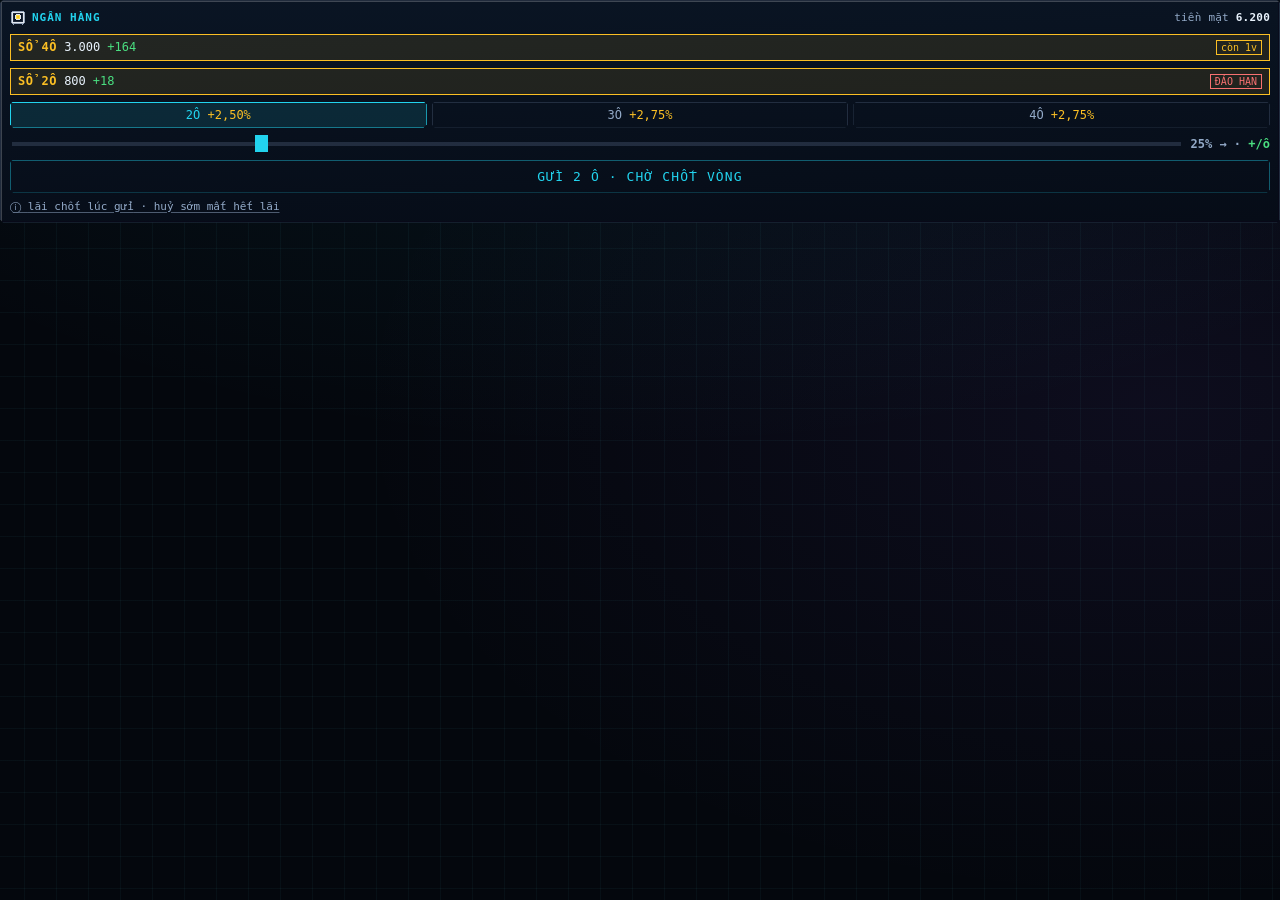
I-b. TIẾT LỘ KHI TƯƠNG TÁC (founder 09/09 — gọn trong một khung hình) › ⭐ bấm dòng sổ ⇒ hiện lãi suất hợp đồng + nút HUỶ SỚM
Click the button "SỔ 4Ô 3.000 +164 còn 1v". click: {"x": 82, "y": 47}
box: [11, 34, 1269, 60]
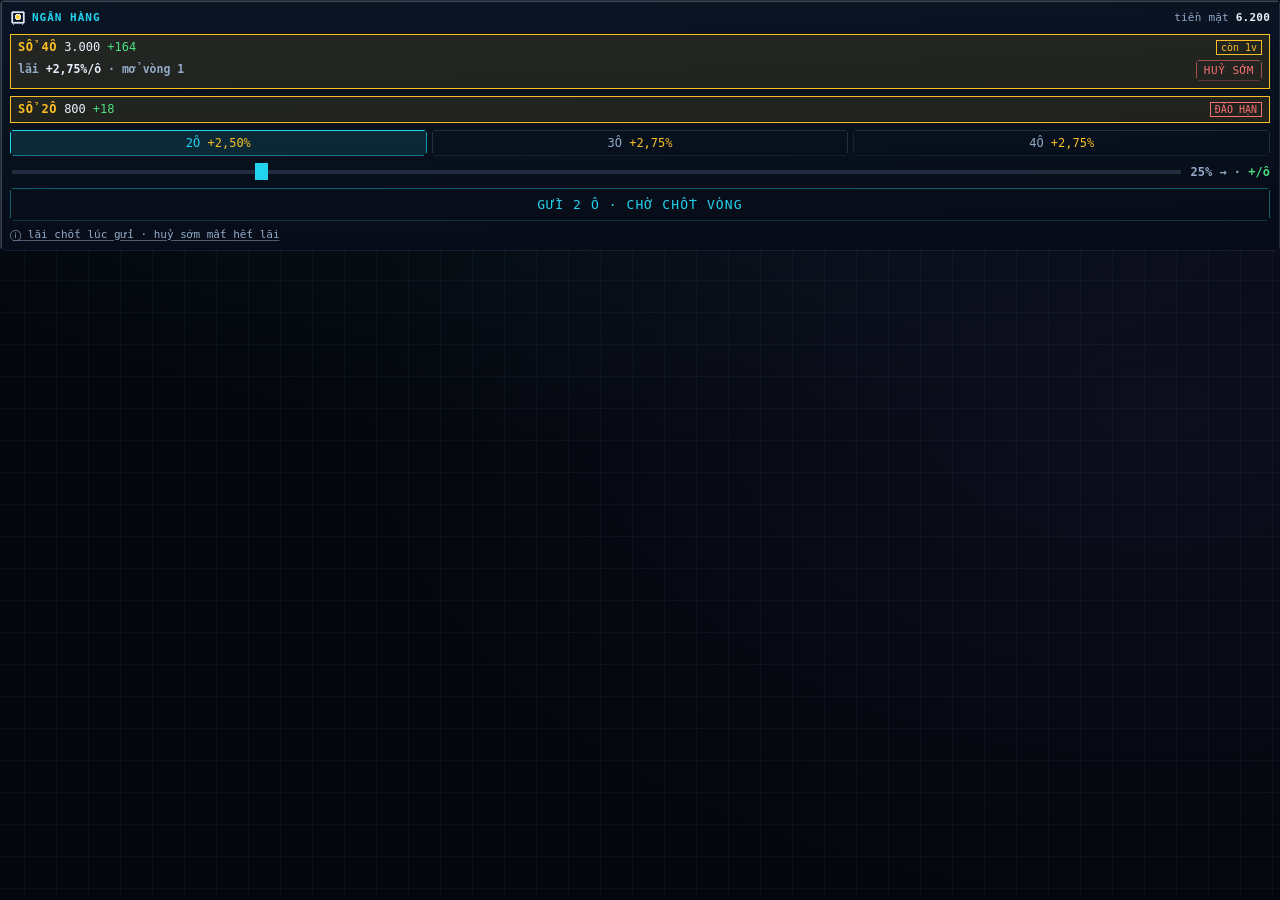
Now the text "lãi +2,75%/ô · mở vòng 1" is shown, box [18, 61, 184, 79]
Now the text "+2,75%/ô" is shown, box [46, 62, 101, 76]
Now the button "HUỶ SỚM" is shown, box [1196, 60, 1262, 80]
